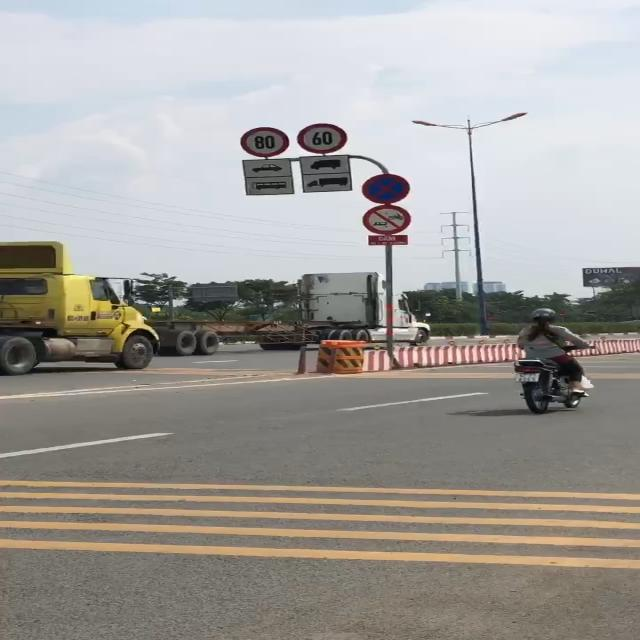Bien bao cam dung xe va do xe: (359, 171, 415, 205)
Bien bao toc do toi da cho phep: (294, 122, 354, 154), (238, 124, 292, 158)
